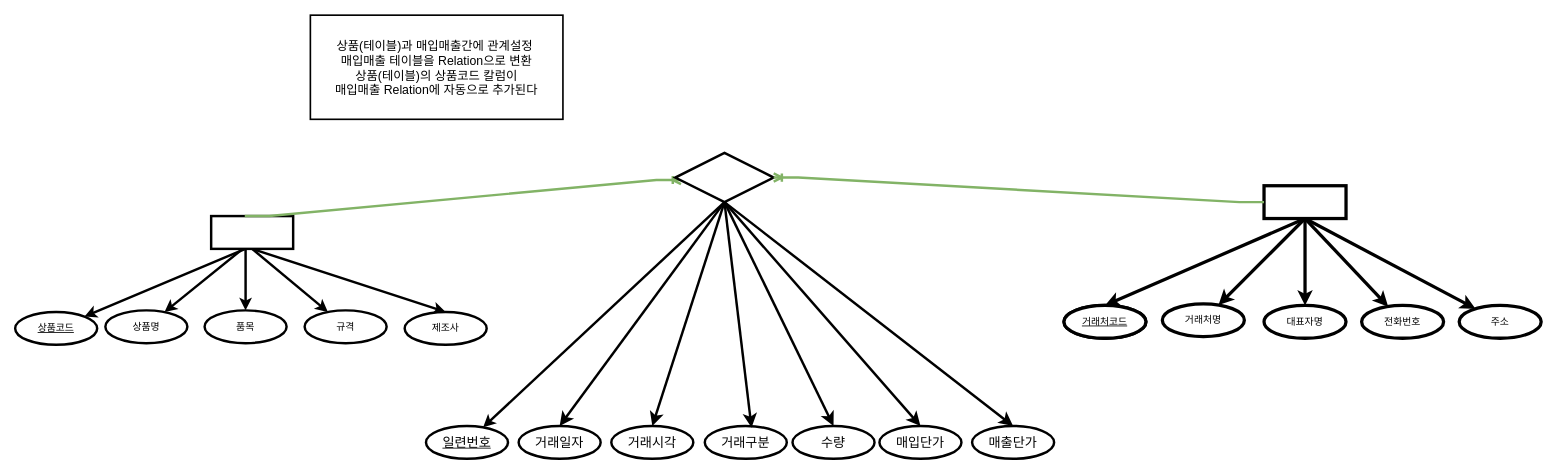
Some shapes in this 1557 by 474 pixel diagram are drawn without their labels. Here are the shapes that lost their labels. From the top down, the centre of each, then its label:
At (724,177): "매입매출".
At (1304,202): "거래처".
At (252,232): "상품".
